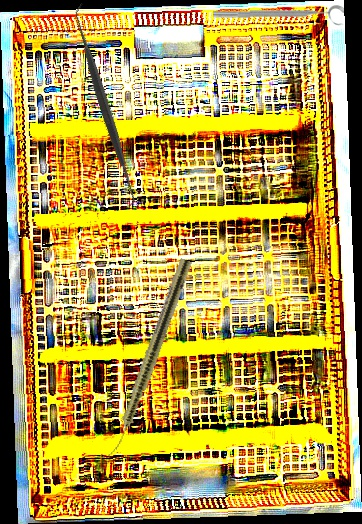Fixation Ring: (212, 4, 345, 30)
Handpiece: (105, 257, 194, 461)
Spatula Surgical: (0, 2, 210, 210)
